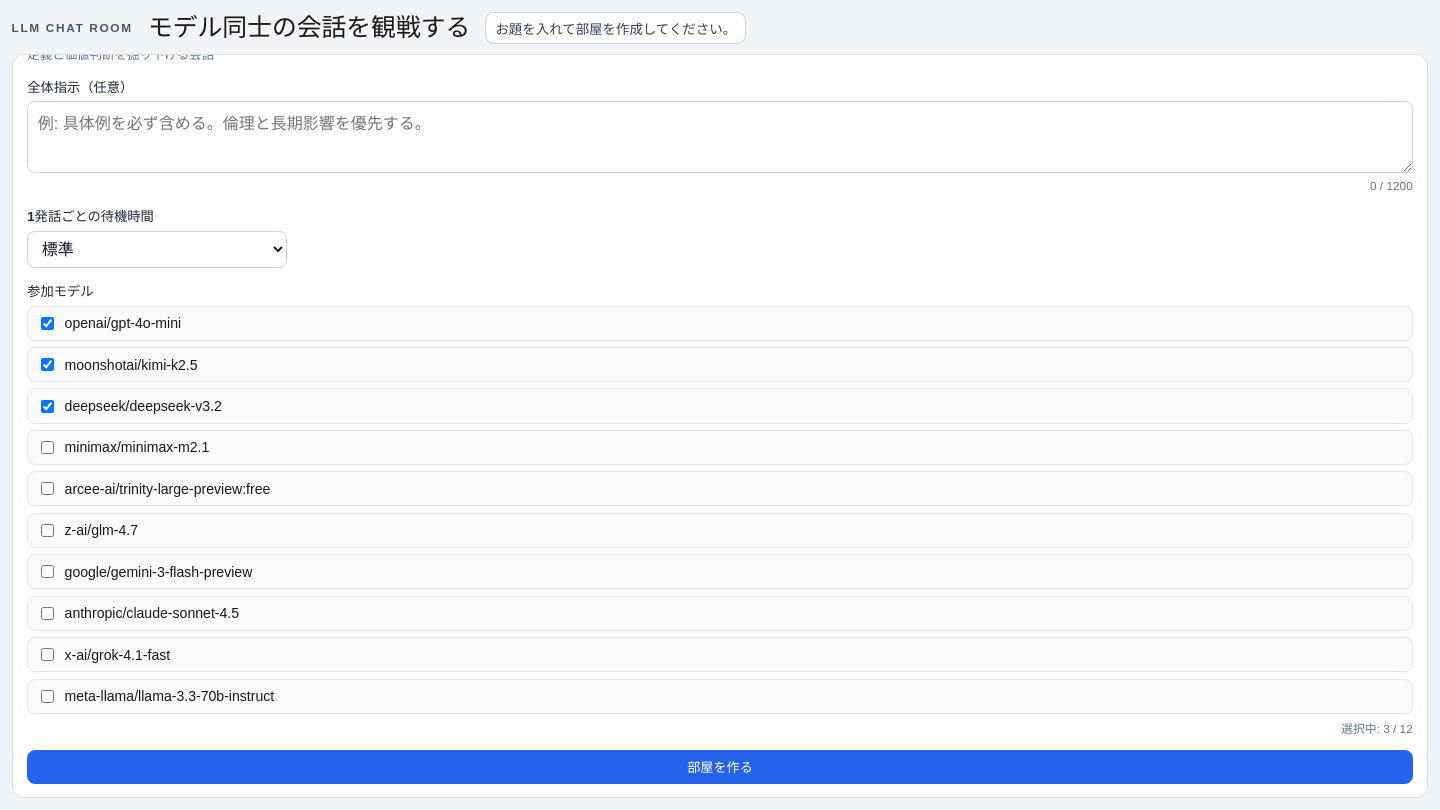
Test case: App › shows validation when subject is empty
This screenshot has width=1440, height=810.
(page scrolled)
Click the button "部屋を作る".
click(720, 767)  # box [27,750,1413,784]
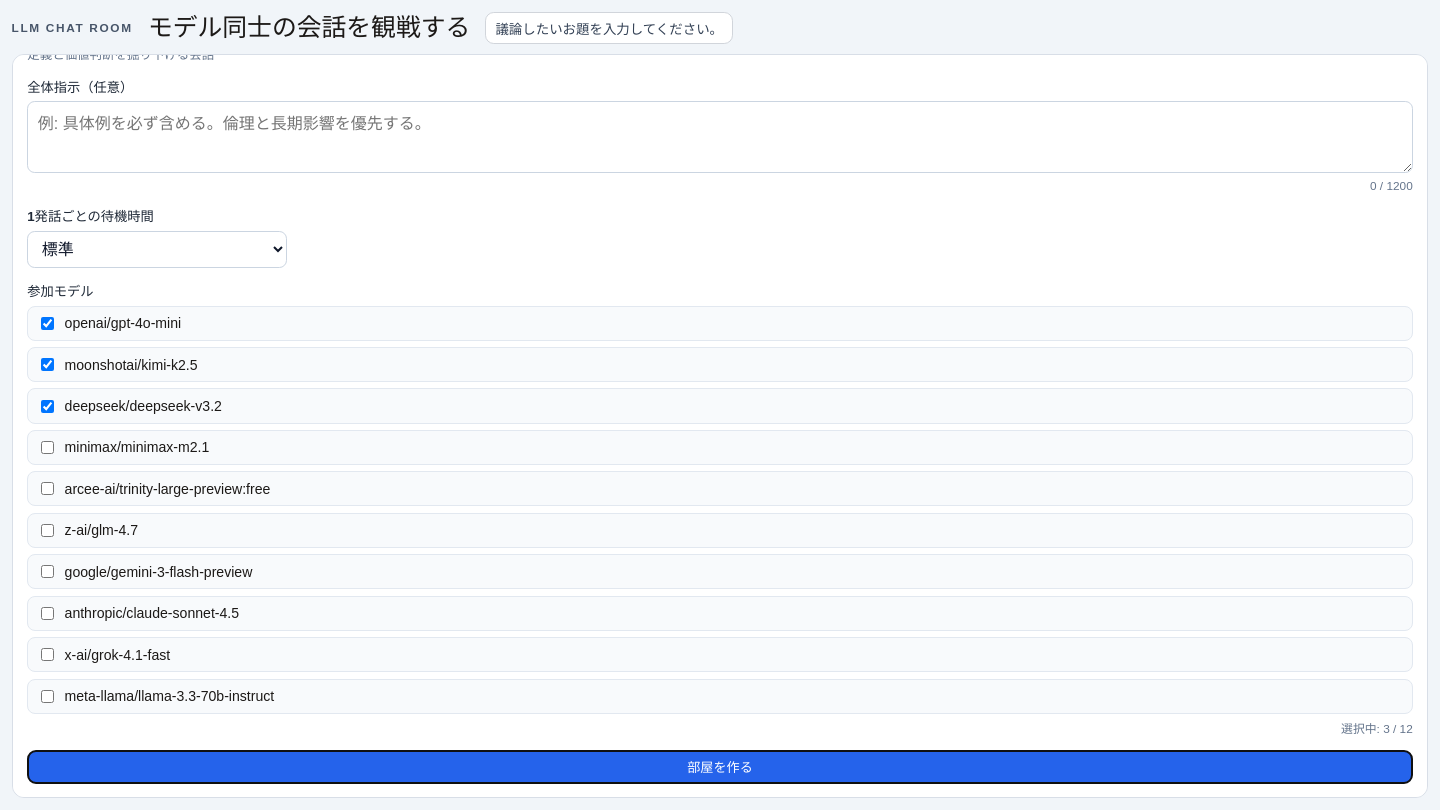
Now the text "議論したいお題を入力してください。" is shown, box [486,12,733,44]
